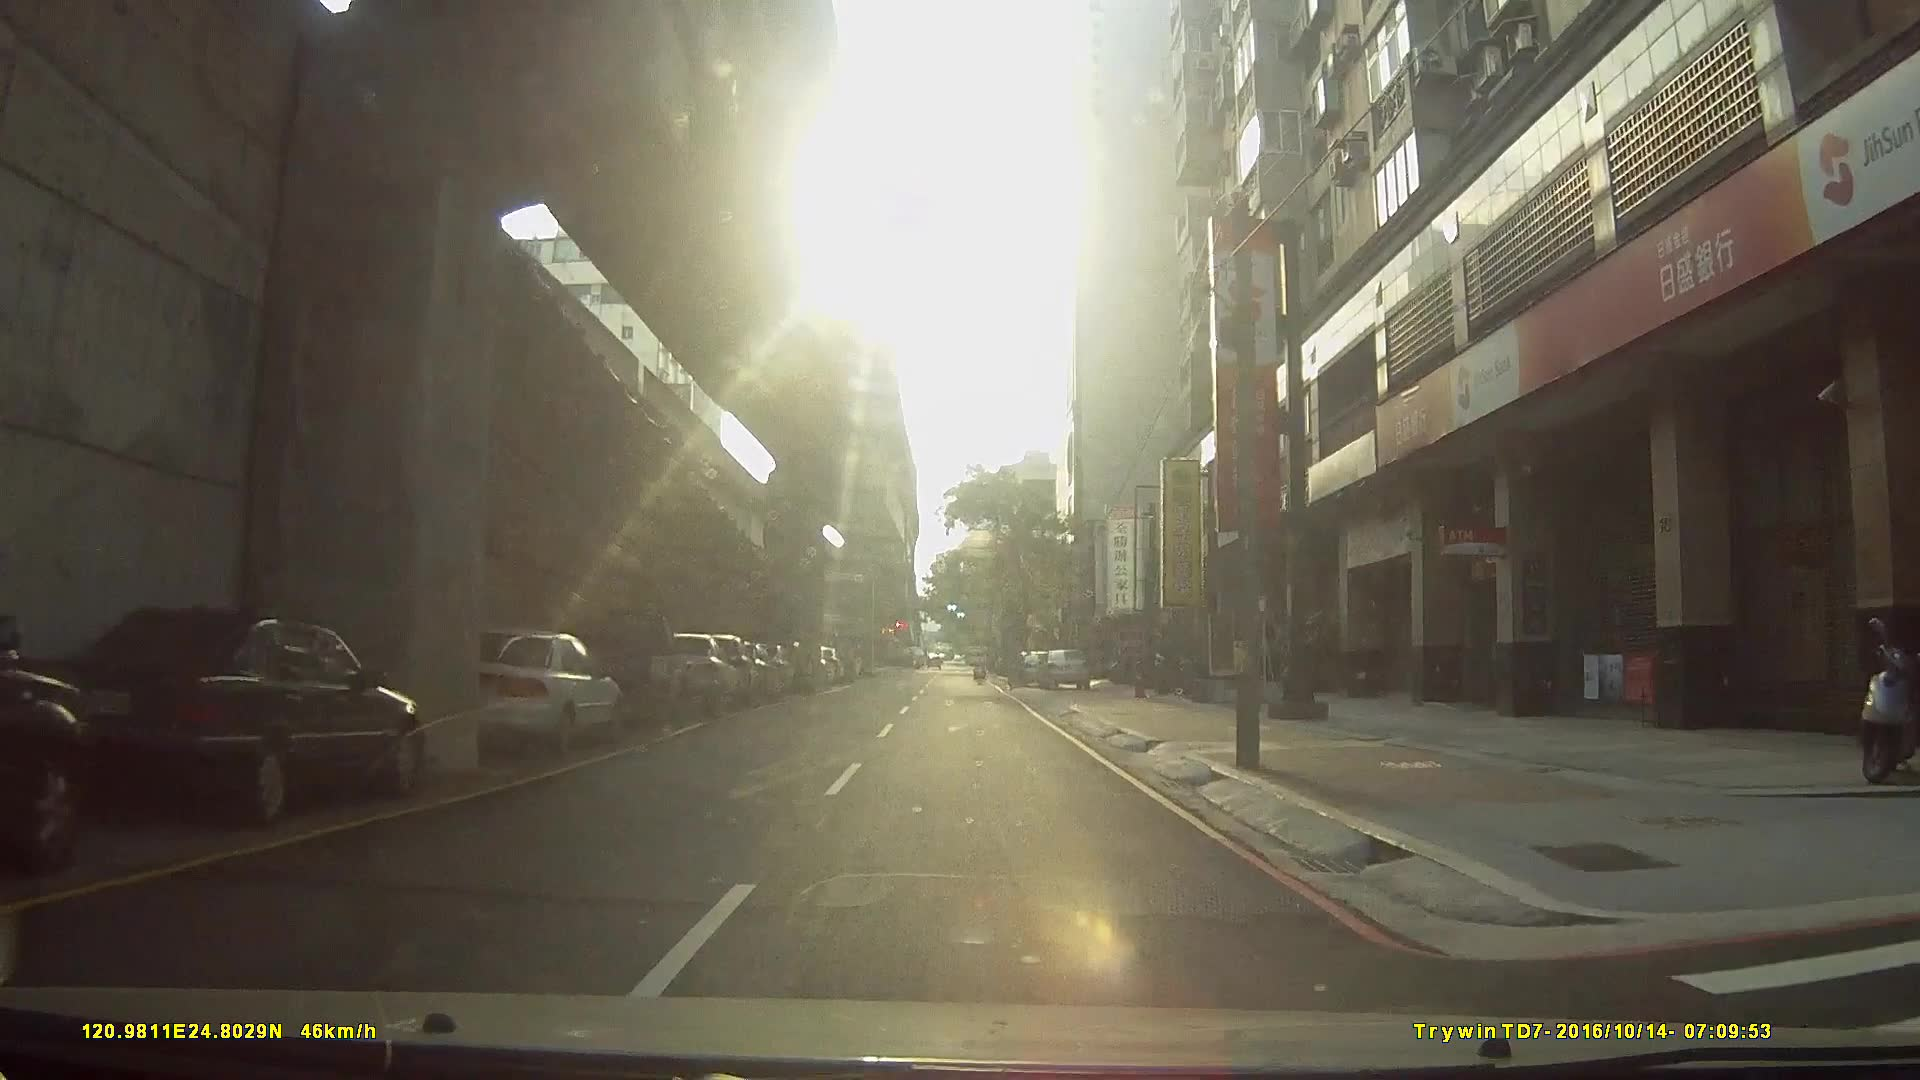vehicle: (26, 603, 425, 828), (447, 625, 624, 756), (0, 632, 88, 873), (541, 607, 684, 728), (641, 630, 744, 716), (659, 620, 794, 670), (1034, 645, 1092, 690)
